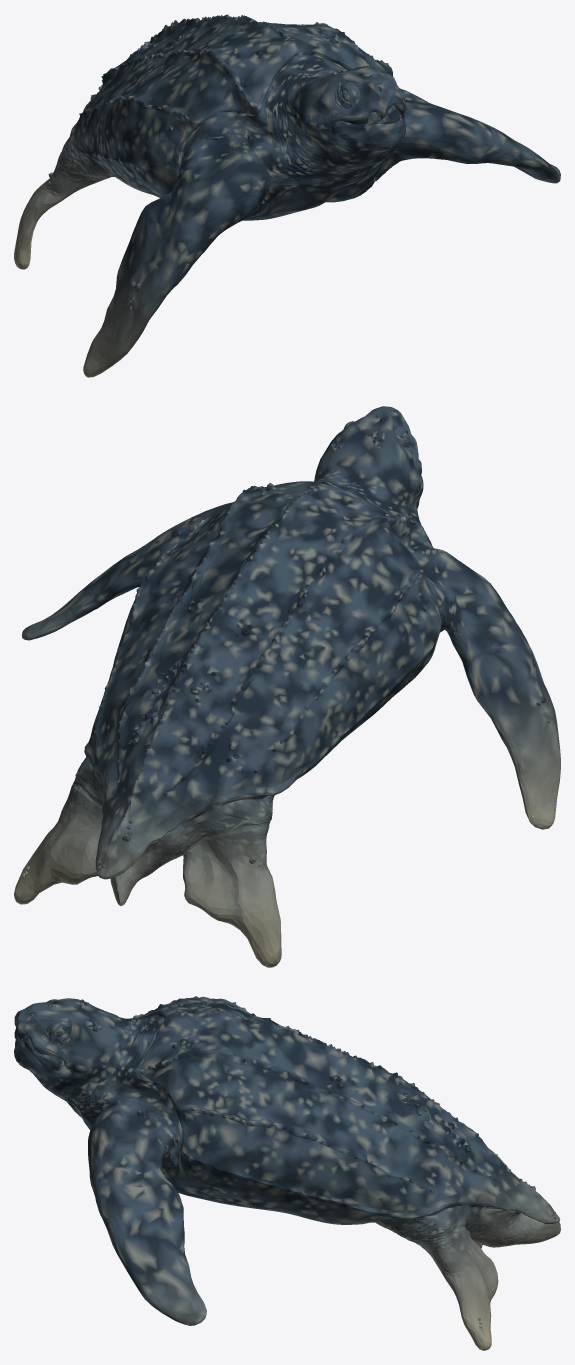
File: animal_turtle_v1.glb
The picture shows the model from 3 angles, top to bottom: view 1: azimuth 30°, elevation 25°; view 2: azimuth 150°, elevation 25°; view 3: azimuth 270°, elevation 25°; orthographic projection. The views are drawn at different scales.
Visible parts, largest first — view 1: leather-back-turtle-swim; view 2: leather-back-turtle-swim; view 3: leather-back-turtle-swim.
Boxes of the visible parts, x1,y1,x2,y2 form: leather-back-turtle-swim: [14, 14, 560, 377]; leather-back-turtle-swim: [14, 406, 560, 967]; leather-back-turtle-swim: [14, 996, 560, 1350].
Bounding box in the file's own units: 83.71 × 54.13 × 87.31.
